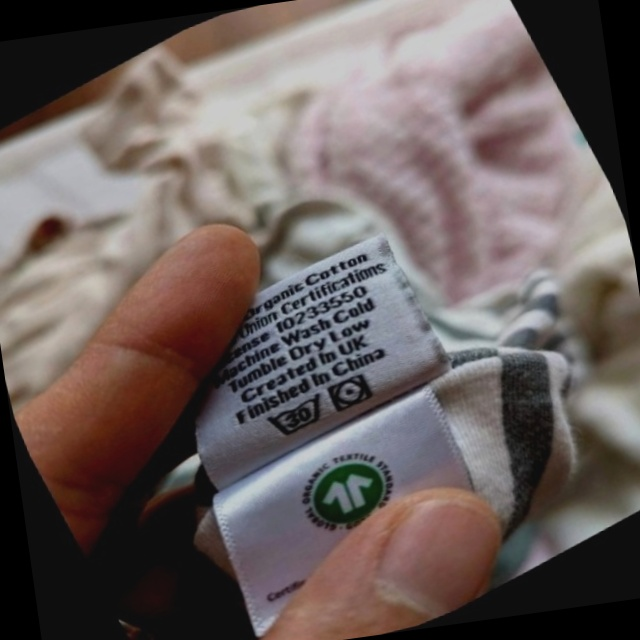30C: (254, 383, 340, 451)
tumble_dry_low: (318, 363, 382, 422)
